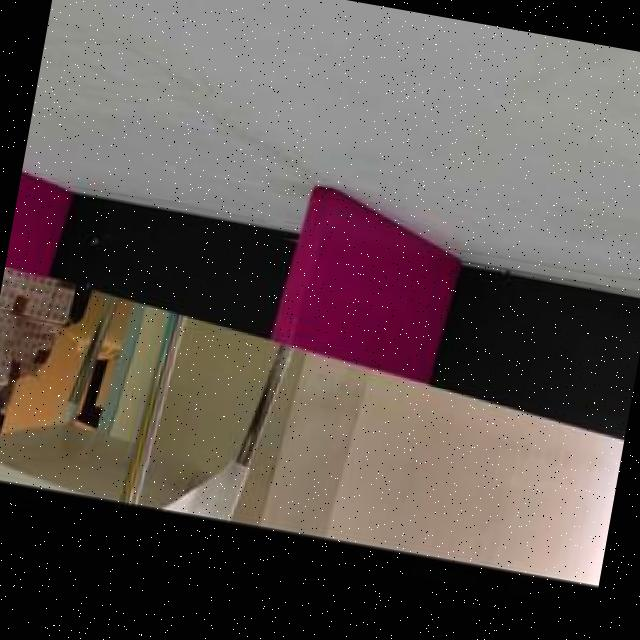xparking: (280, 194, 457, 368), (4, 174, 58, 273)
